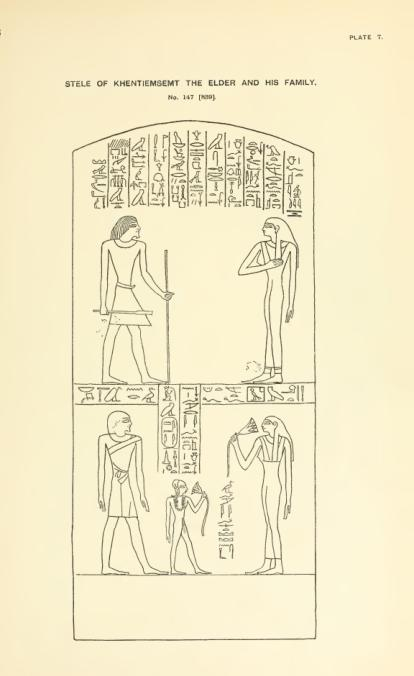circle: (161, 417, 179, 449)
